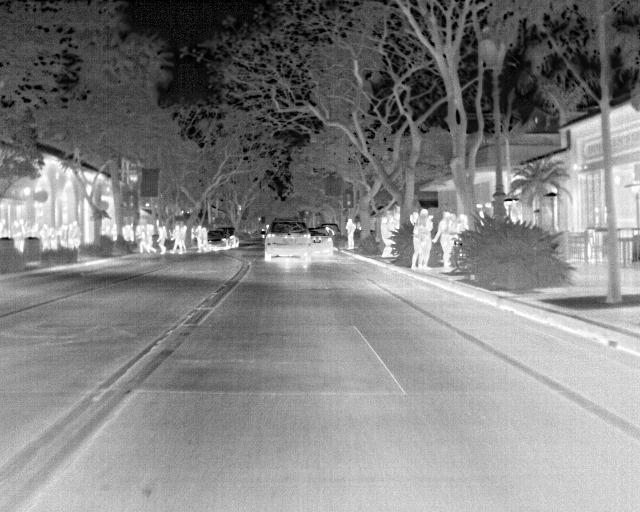bicycle: (262, 220, 312, 260), (309, 226, 335, 256), (216, 226, 238, 246), (207, 232, 227, 250)
empty: (434, 210, 454, 266), (418, 211, 433, 267), (377, 213, 392, 258), (409, 216, 421, 269), (136, 224, 153, 255), (344, 217, 357, 251), (157, 226, 171, 254), (38, 223, 51, 251), (172, 225, 184, 255), (192, 224, 204, 252)
